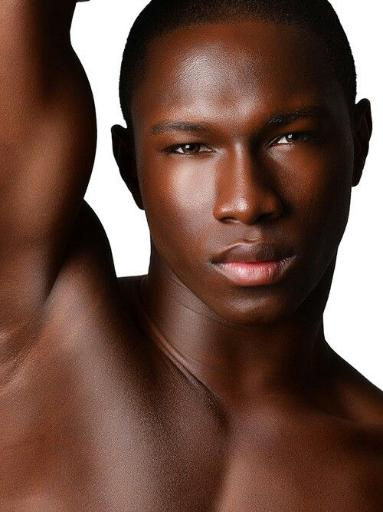left_eye: (267, 128, 324, 154)
left_lip_corner: (289, 244, 304, 264)
right_eye: (164, 139, 215, 163)
right_lip_corner: (207, 253, 223, 275)
